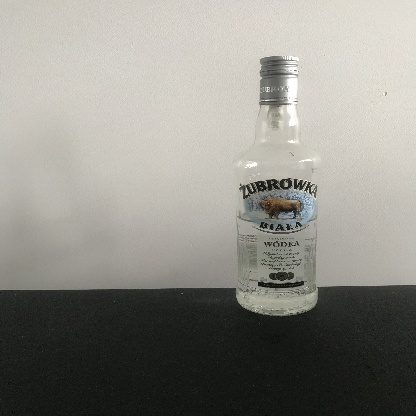nakretka: (258, 53, 298, 106)
